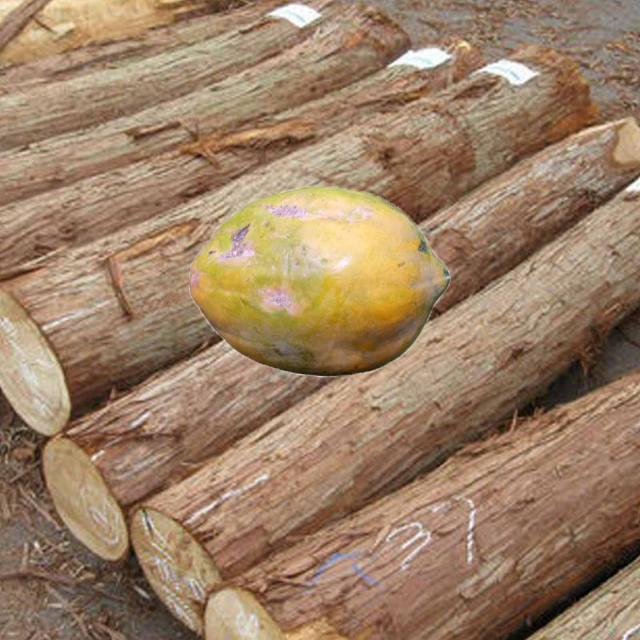Pepaya rippen: (186, 178, 449, 378)
